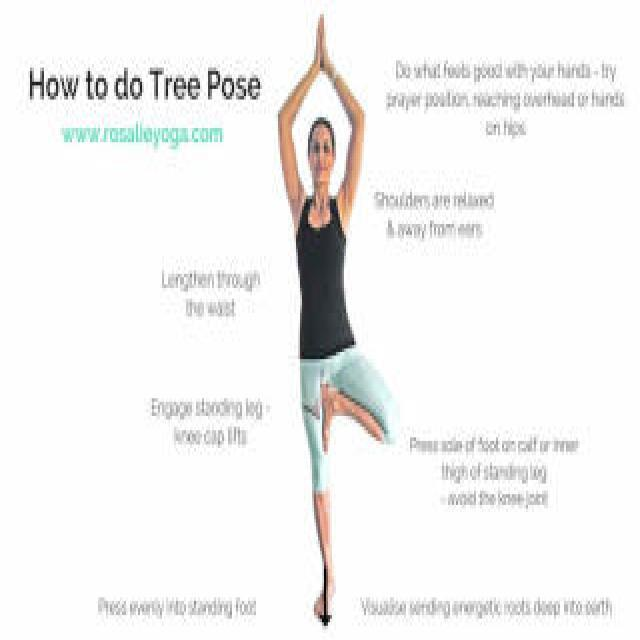yoga-pose tree: (271, 5, 398, 621)
